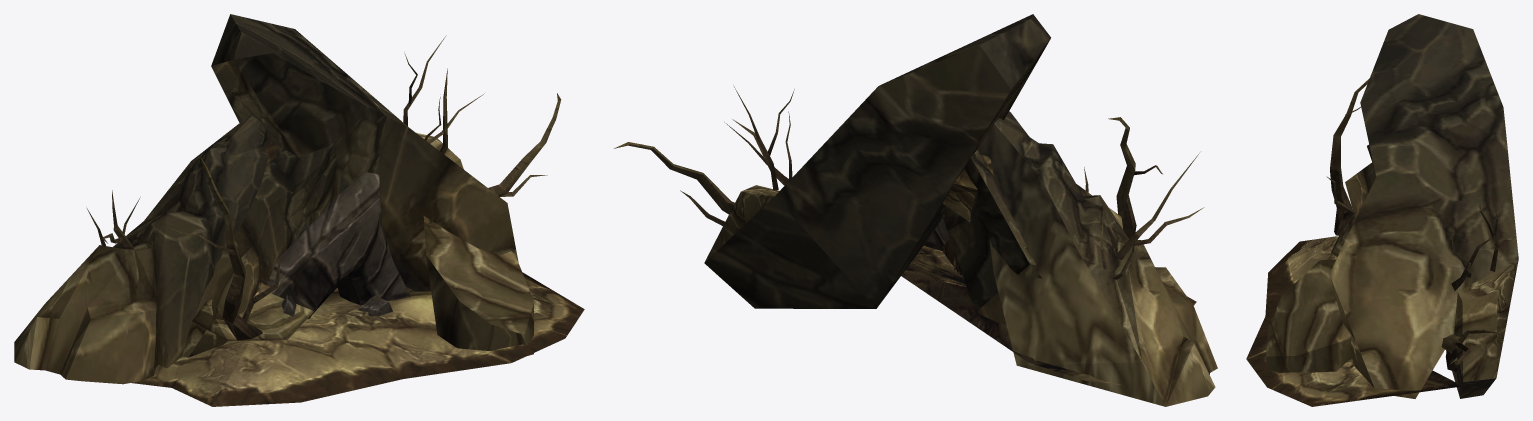
The model's file is D_chuguaiwu003.fbx.
3 views of the same model, side by side, from view 1: azimuth 30°, elevation 25°; view 2: azimuth 150°, elevation 25°; view 3: azimuth 270°, elevation 25° (orthographic). The views are drawn at different scales.
Parts seen in each view (by area): view 1: D_chuguaiwu003; view 2: D_chuguaiwu003; view 3: D_chuguaiwu003.
Part boxes in pixels (x1,y1,x2,y2): D_chuguaiwu003: (14,14,584,406); D_chuguaiwu003: (614,14,1217,406); D_chuguaiwu003: (1246,14,1518,406).
Size of the model in its own units: 641 by 342 by 301.
